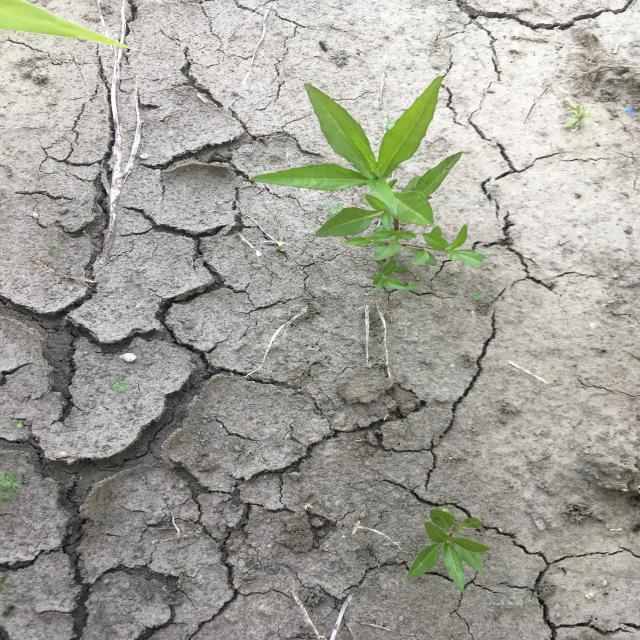Eclipta: (246, 74, 488, 294), (405, 506, 494, 597)
